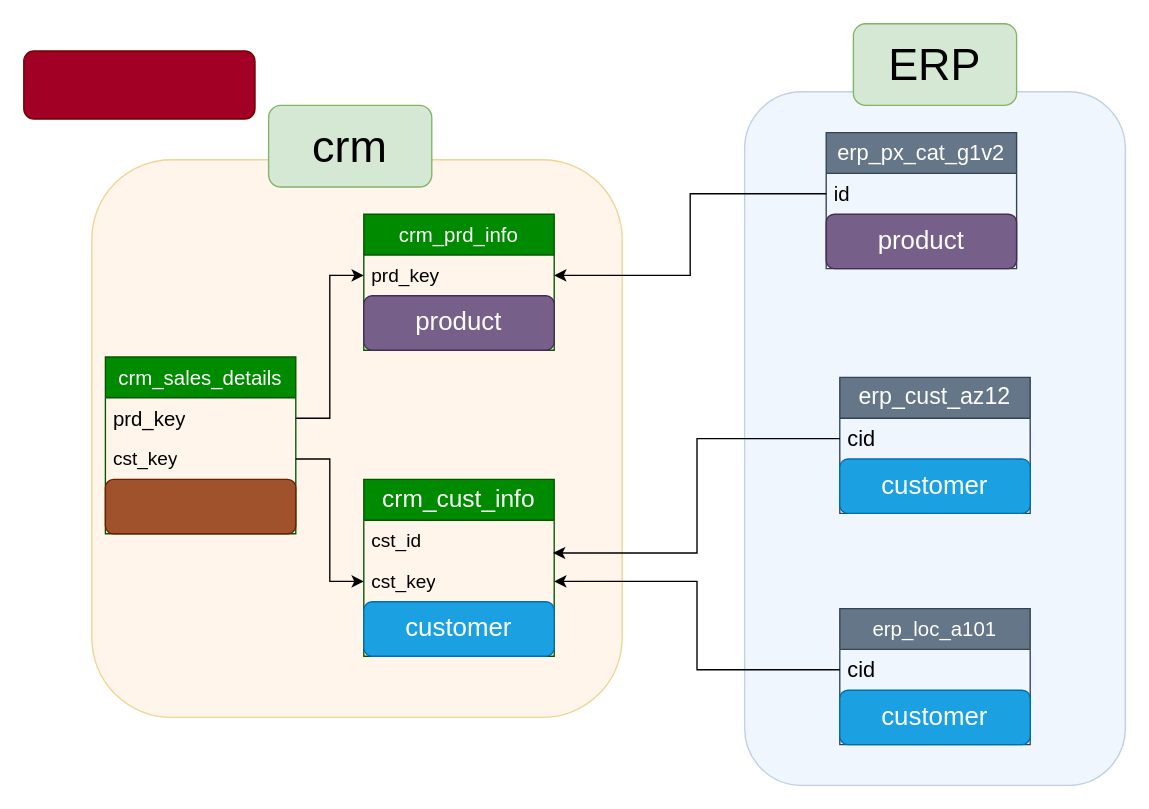
The diagram is 1149 pixels wide and 809 high, and some of its shapes have lost their labels. The centre of each missing label's shape, as x and y in pixels:
Data integration: the point at 138,84
sales: the point at 200,506
